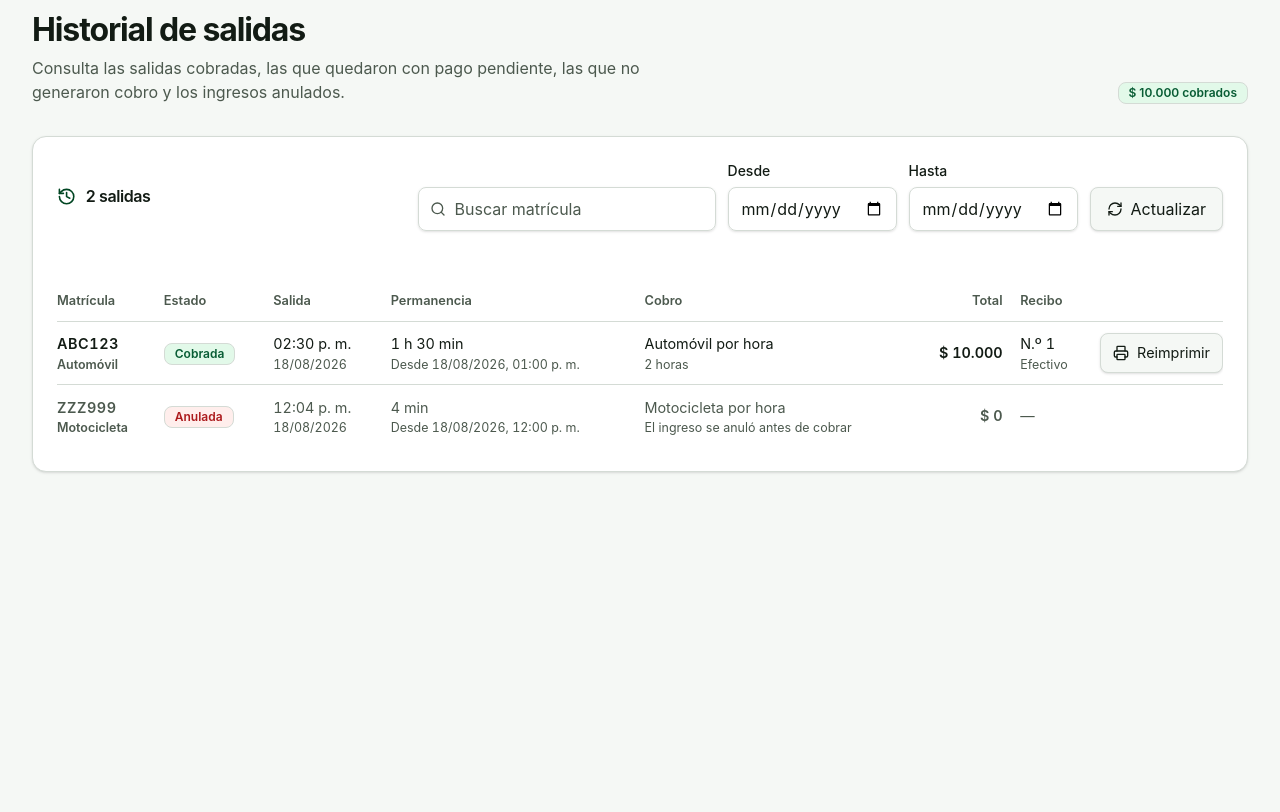
Test case: Historial de salidas › limpia los filtros de una sola vez
Expected: the table is shown, [57,279,1223,447]
Type "QQQ" into the field with placeholder "Buscar matrícula".
click(567, 209); type("QQQ")  # box [418,187,716,231]
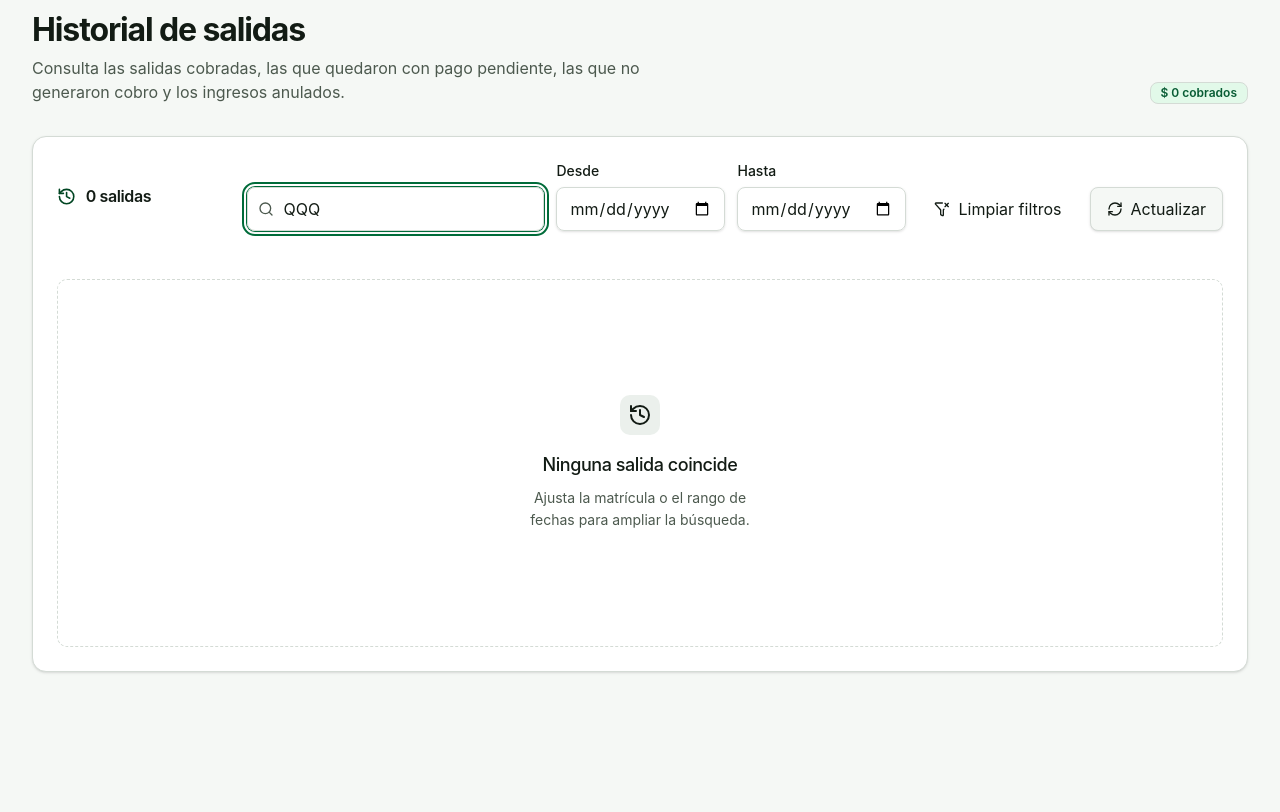
Click the button "Limpiar filtros".
click(998, 209)  # box [918,187,1078,231]
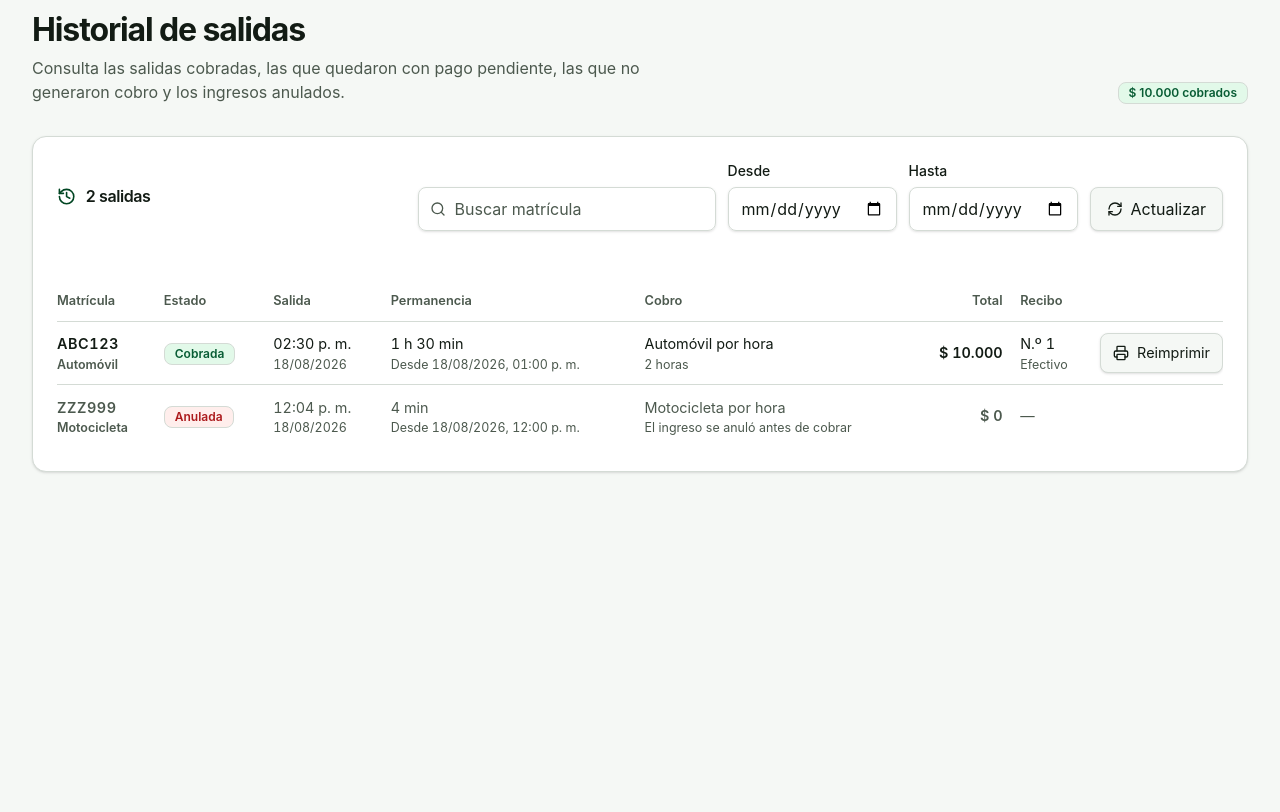
Now the field with placeholder "Buscar matrícula" is empty, box [418,187,716,231]
Now the table is shown, box [57,279,1223,447]
